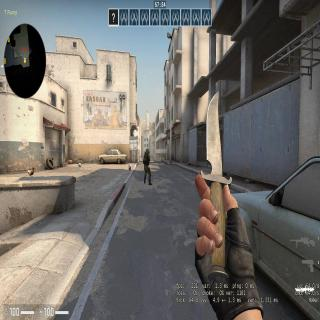CT-Body: (143, 147, 153, 180)
CT-Head: (146, 149, 149, 154)
